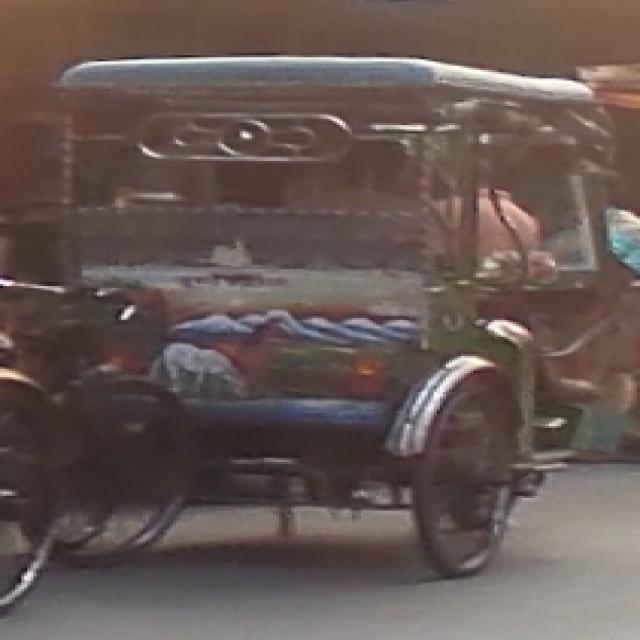rickshaw: (33, 49, 619, 593)
